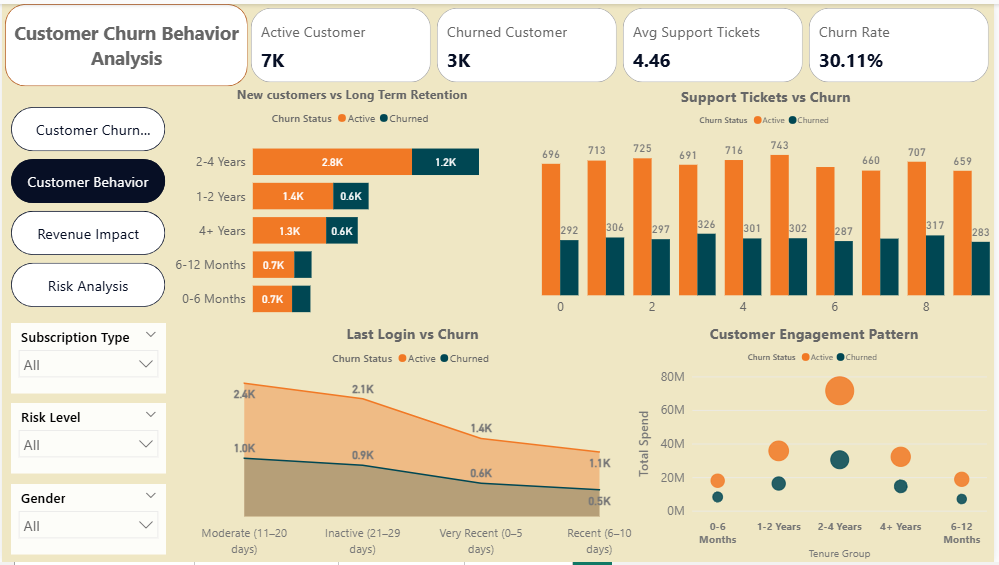

The page's visual inventory and layout, read from the dashboard file:
{"tool":"powerbi","page":{"name":"Customer Behavior","canvas":[1280,720],"ordinal":1},"visuals":[{"type":"cardVisual","fields":{"Data":["Measure.Active Customer","Measure.Churned Customer","Measure.Avg Support Tickets","Measure.Churn Rate"]},"box":[316.1,0,963.8,106.3],"z":0},{"type":"shape","box":[4.3,0,313.2,106.3],"z":1000},{"type":"clusteredColumnChart","title":"Support Tickets vs Churn","fields":{"Series":["customer_retention_dataset.Churn Status"],"Category":["customer_retention_dataset.support_tickets"],"Y":["Measure.Total Customer"]},"box":[691.7,106.3,588.2,304.7],"z":2000},{"type":"lineChart","title":"Last Login vs Churn","fields":{"Category":["customer_retention_dataset.Engagement Status"],"Y":["Measure.Total Customer"],"Series":["customer_retention_dataset.Churn Status"]},"box":[211.2,411,636.4,309],"z":3000},{"type":"barChart","title":"New customers vs Long Term Retention","fields":{"Series":["customer_retention_dataset.Churn Status"],"Category":["customer_retention_dataset.Tenure Group"],"Y":["Measure.Total Customer"]},"box":[211.2,106.3,480.5,316.1],"z":4000},{"type":"pageNavigator","box":[11.3,133.2,199.8,260.8],"z":5000},{"type":"slicer","fields":{"Values":["customer_retention_dataset.gender"]},"box":[11.3,619.4,199.8,90.7],"z":6000},{"type":"slicer","fields":{"Values":["customer_retention_dataset.Risk Level"]},"box":[11.3,514.5,199.8,90.7],"z":7000},{"type":"slicer","fields":{"Values":["customer_retention_dataset.subscription_type"]},"box":[11.3,411,199.8,90.7],"z":8000},{"type":"scatterChart","title":"Customer Engagement Pattern","fields":{"Series":["customer_retention_dataset.Churn Status"],"Size":["Sum(customer_retention_dataset.support_tickets)"],"X":["customer_retention_dataset.Tenure Group"],"Y":["Sum(customer_retention_dataset.total_spend)"]},"box":[815,411,464.9,309],"z":10000}]}

Visuals, with their boxes in screenshot pixels (x1, y1, x2, y2), scaled from the page's 1280x720 canvas onto the 999x565 screenshot:
cardVisual - Measure.Active Customer x Measure.Churned Customer: 247/0/998/83
shape: 3/0/248/83
"Support Tickets vs Churn" clusteredColumnChart: 540/83/998/323
"Last Login vs Churn" lineChart: 165/323/662/564
"New customers vs Long Term Retention" barChart: 165/83/540/331
pageNavigator: 9/105/165/309
slicer - customer_retention_dataset.gender: 9/486/165/557
slicer - customer_retention_dataset.Risk Level: 9/404/165/475
slicer - customer_retention_dataset.subscription_type: 9/323/165/394
"Customer Engagement Pattern" scatterChart: 636/323/998/564
